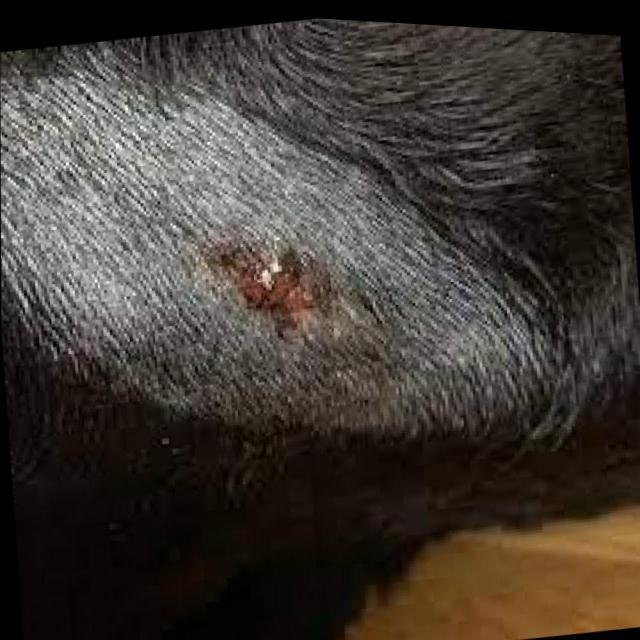hotspot: (230, 248, 312, 333)
